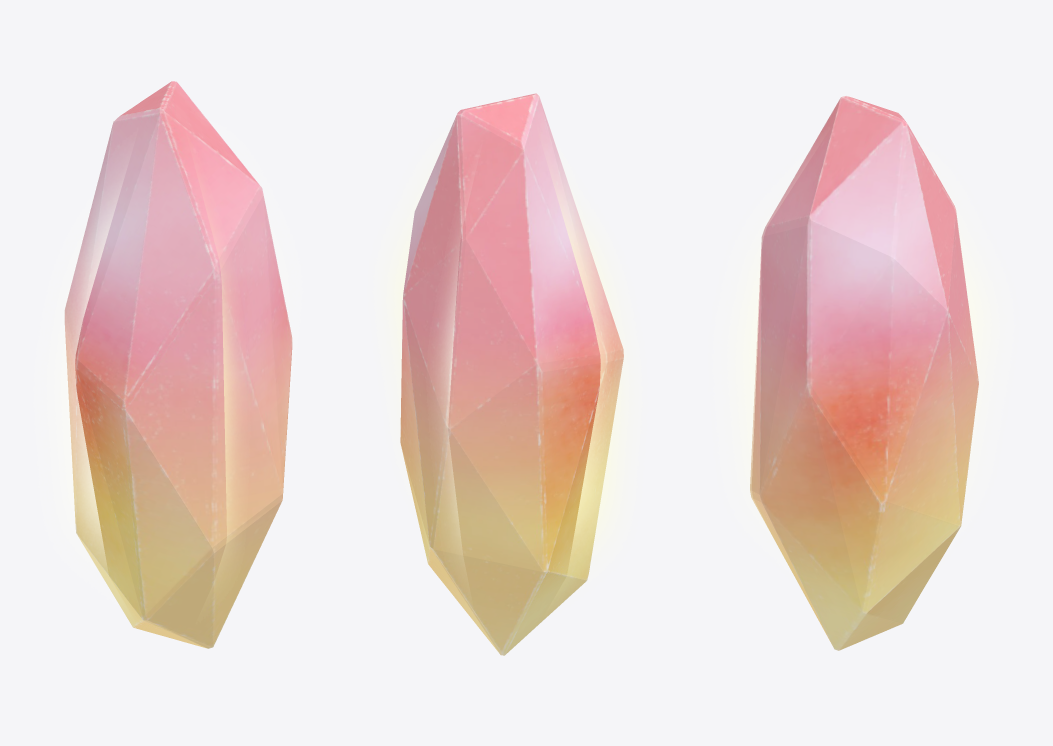
The model's file is gem_C.glb.
3 views of the same model, side by side, from view 1: azimuth 30°, elevation 25°; view 2: azimuth 150°, elevation 25°; view 3: azimuth 270°, elevation 25° (orthographic). The views are drawn at different scales.
Visible parts, largest first — view 1: C, light-C; view 2: C, light-C; view 3: C, light-C.
Part boxes in pixels (x1,y1,x2,y2): C: (64, 81, 292, 648); light-C: (46, 168, 289, 579); C: (400, 93, 623, 655); light-C: (386, 168, 629, 579); C: (750, 96, 978, 650); light-C: (727, 192, 999, 537).
Bounding box in the file's own units: 2.99 × 5.42 × 2.99.
Materials: 2 (2 with a texture image).
